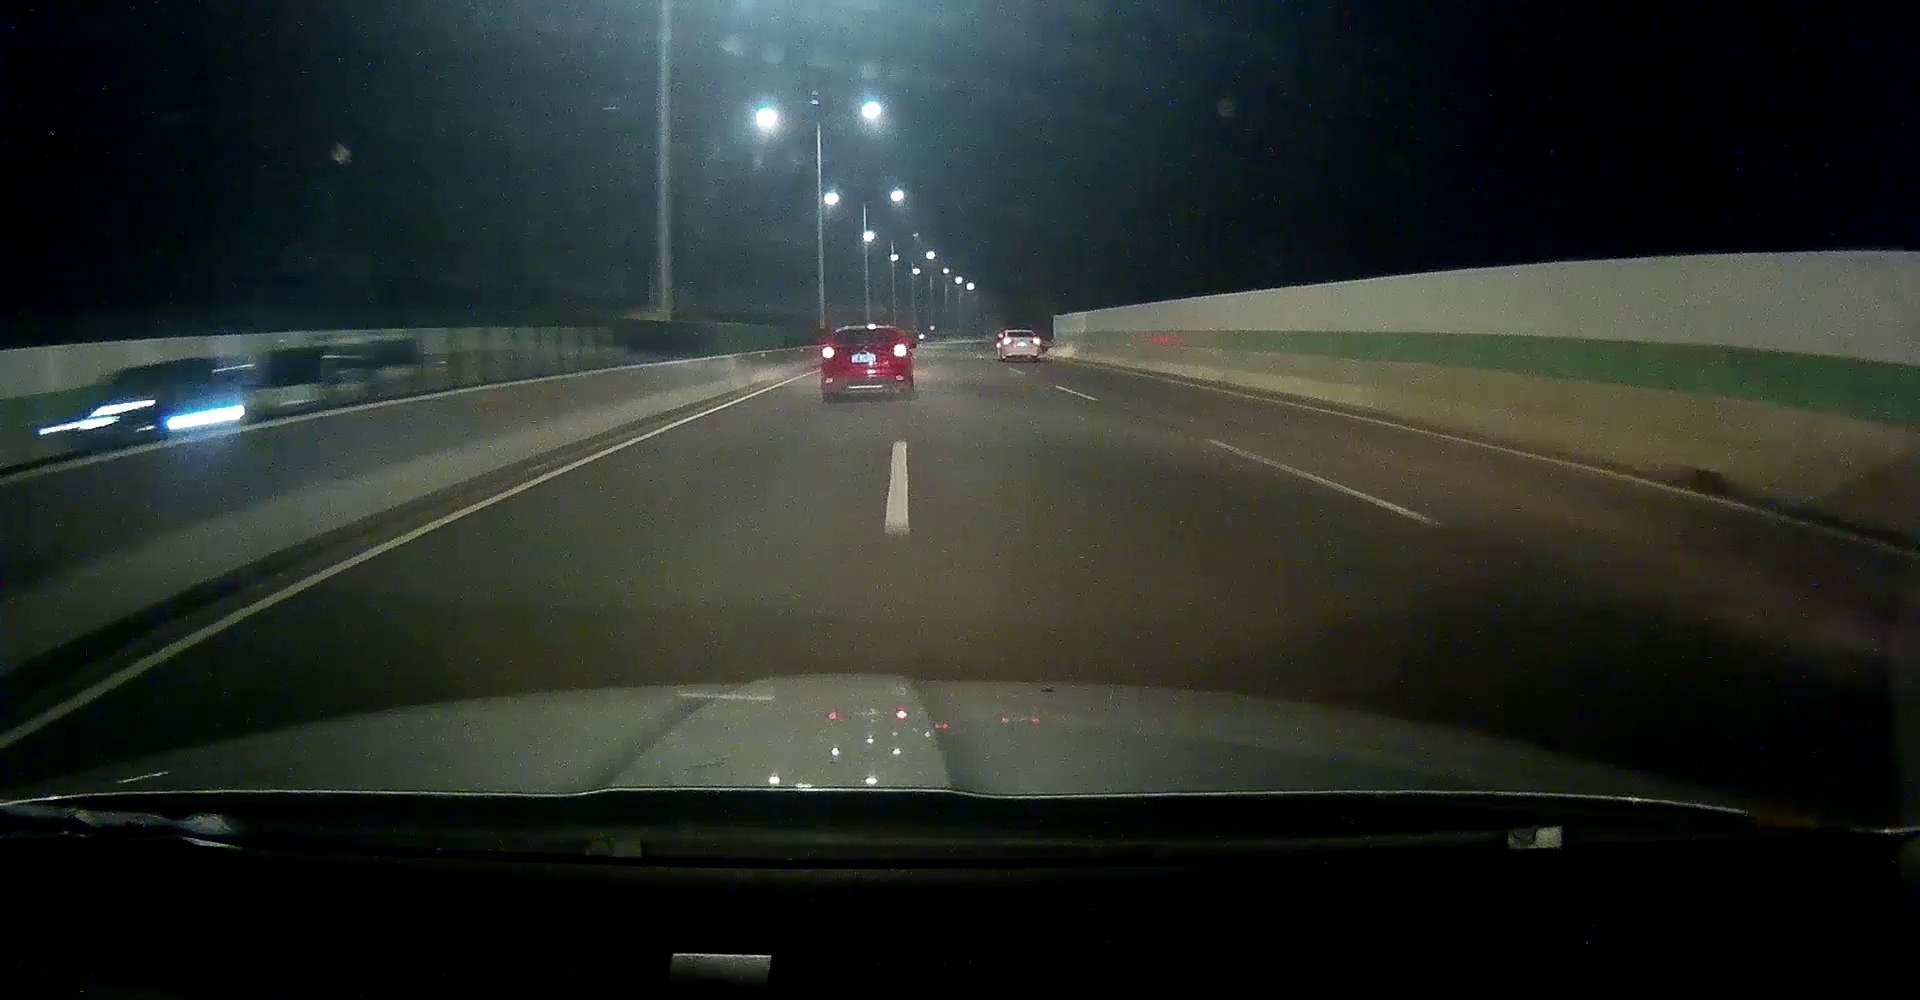L_light: (822, 346, 836, 358), (1003, 338, 1012, 345)
R_light: (894, 343, 907, 357), (1032, 338, 1040, 346)
T_light: (858, 329, 871, 331)
night-no: (820, 325, 910, 402), (1003, 330, 1041, 363)
